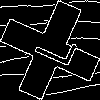L: (25, 25, 78, 69)
